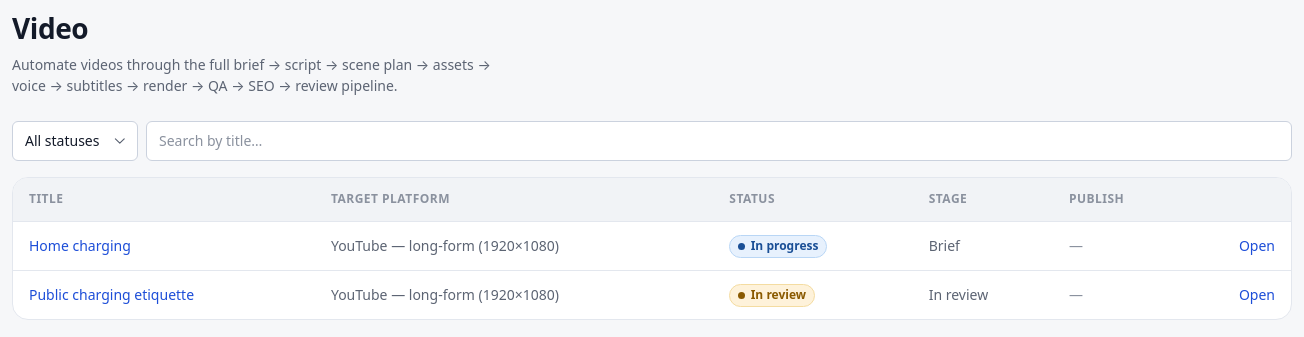
Scenario: VideoList › filters by status and searches by title
The image size is (1304, 337).
Expected: the link "Home charging" is shown, [29,236,131,255]
Select "In review" in the dropdown named "Filter videos by status" at x=75, y=141, box [12,121,138,161]
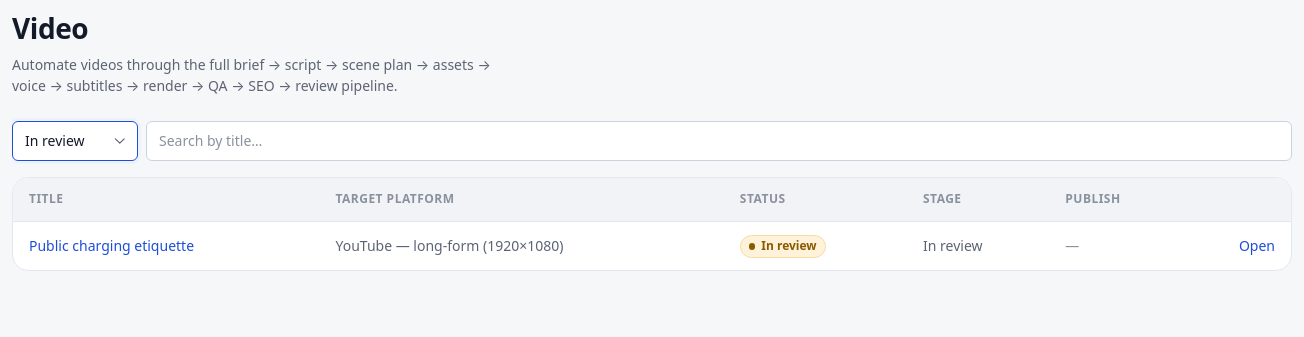
Expected: the link "Public charging etiquette" is shown, [29,236,194,255]
Expected: the link "Home charging" is gone
Select "All statuses" in the dropdown named "Filter videos by status" at x=75, y=141, box [12,121,138,161]
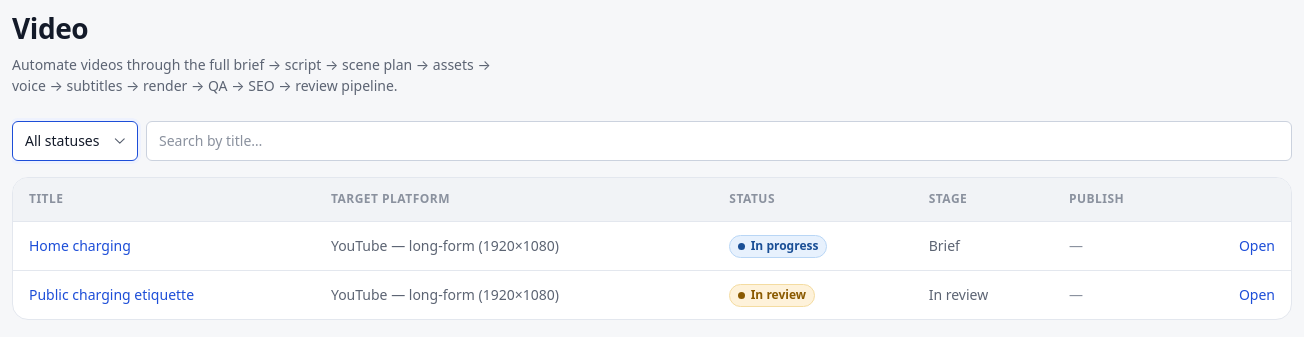
Type "etiquette" into the search field named "Search videos by title" at x=719, y=141, box [146,121,1292,161]
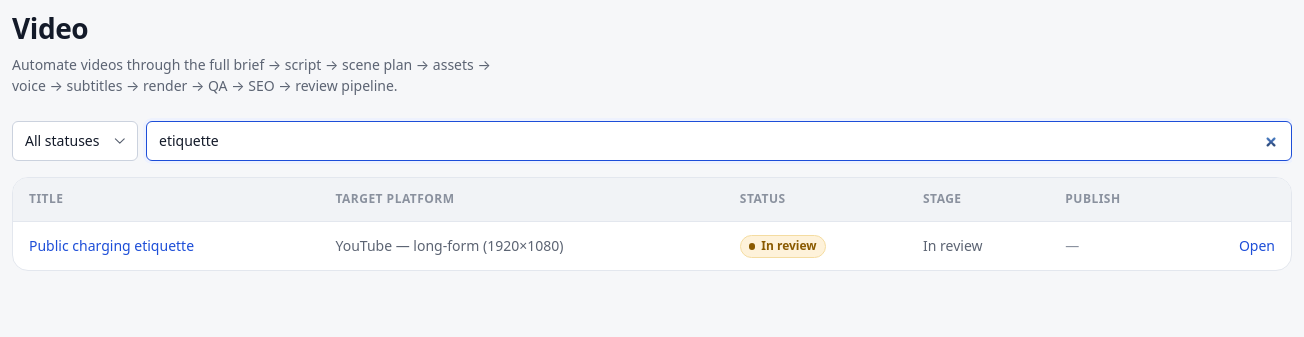
Expected: the link "Home charging" is gone
